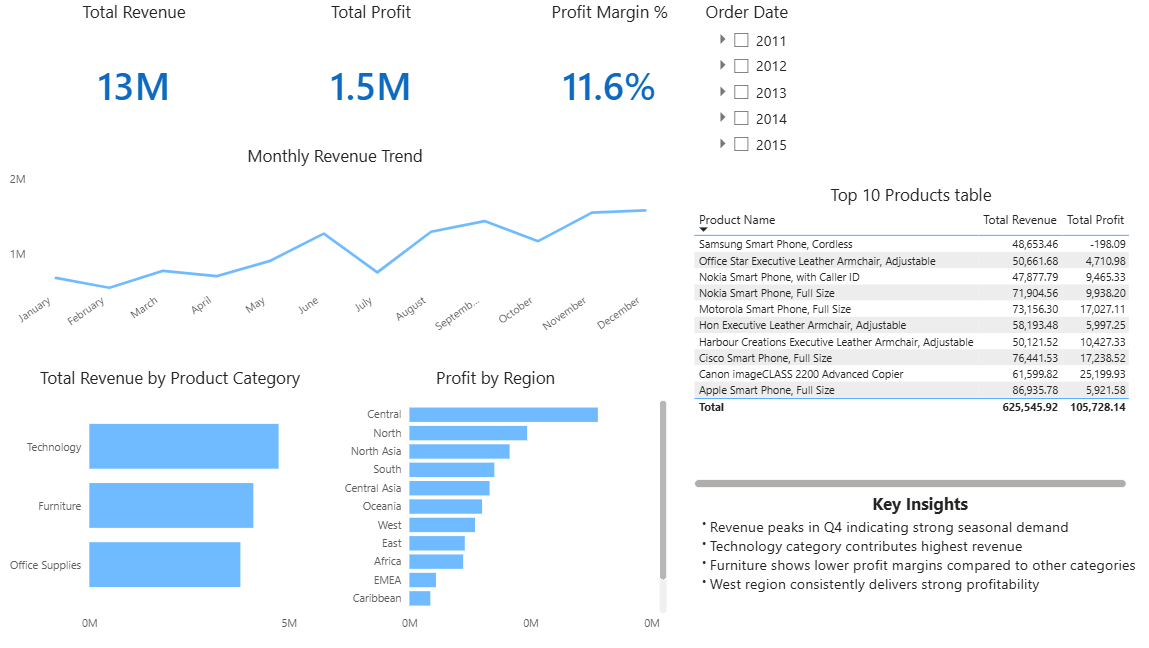

Layout of this report page (visuals, bound fields, positions):
{"tool":"powerbi","page":{"name":"Page 1","canvas":[1280,720],"ordinal":0},"visuals":[{"type":"cardVisual","title":"Total Revenue","fields":{"Data":["Orders.Total Revenue"]},"box":[0,0,300,160],"z":0},{"type":"cardVisual","title":"Total Profit","fields":{"Data":["Orders.Total Profit"]},"box":[264,0,300,160],"z":1000},{"type":"cardVisual","title":"Profit Margin %","fields":{"Data":["Orders.Profit Margin %"]},"box":[528,0,300,160],"z":2000},{"type":"lineChart","title":"Monthly Revenue Trend","fields":{"Category":["Orders.Order Date.Variation.Date Hierarchy.Month"],"Y":["Orders.Total Revenue"]},"box":[0,160,746.7,220],"z":3000},{"type":"clusteredBarChart","fields":{"Category":["Orders.Product Category"],"Y":["Orders.Total Revenue"]},"box":[0,406.7,380,303.3],"z":4000},{"type":"clusteredBarChart","title":"Profit by Region","fields":{"Y":["Orders.Total Profit"],"Category":["Orders.Region"]},"box":[356.7,406.7,390,303.3],"z":5000},{"type":"tableEx","title":"Top 10 Products table","fields":{"Values":["Orders.Product Name","Orders.Total Revenue","Orders.Total Profit"]},"box":[766.7,203.3,493.3,343.3],"z":6000},{"type":"slicer","title":"Order Date","fields":{"Values":["Orders.Ship Date.Variation.Date Hierarchy.Year","Orders.Order Date"]},"box":[780,0,463.3,203.3],"z":7000},{"type":"textbox","title":"Key Insights","box":[766.7,546.7,513.3,163.3],"z":8000}]}

Visuals, with their boxes in screenshot pixels (x1, y1, x2, y2), scaled from the page's 1280x720 canvas onto the 1149x648 screenshot:
"Total Revenue" cardVisual: left=0, top=0, right=269, bottom=144
"Total Profit" cardVisual: left=237, top=0, right=506, bottom=144
"Profit Margin %" cardVisual: left=474, top=0, right=743, bottom=144
"Monthly Revenue Trend" lineChart: left=0, top=144, right=670, bottom=342
clusteredBarChart - Orders.Product Category x Orders.Total Revenue: left=0, top=366, right=341, bottom=639
"Profit by Region" clusteredBarChart: left=320, top=366, right=670, bottom=639
"Top 10 Products table" tableEx: left=688, top=183, right=1131, bottom=492
"Order Date" slicer: left=700, top=0, right=1116, bottom=183
"Key Insights" textbox: left=688, top=492, right=1148, bottom=639
